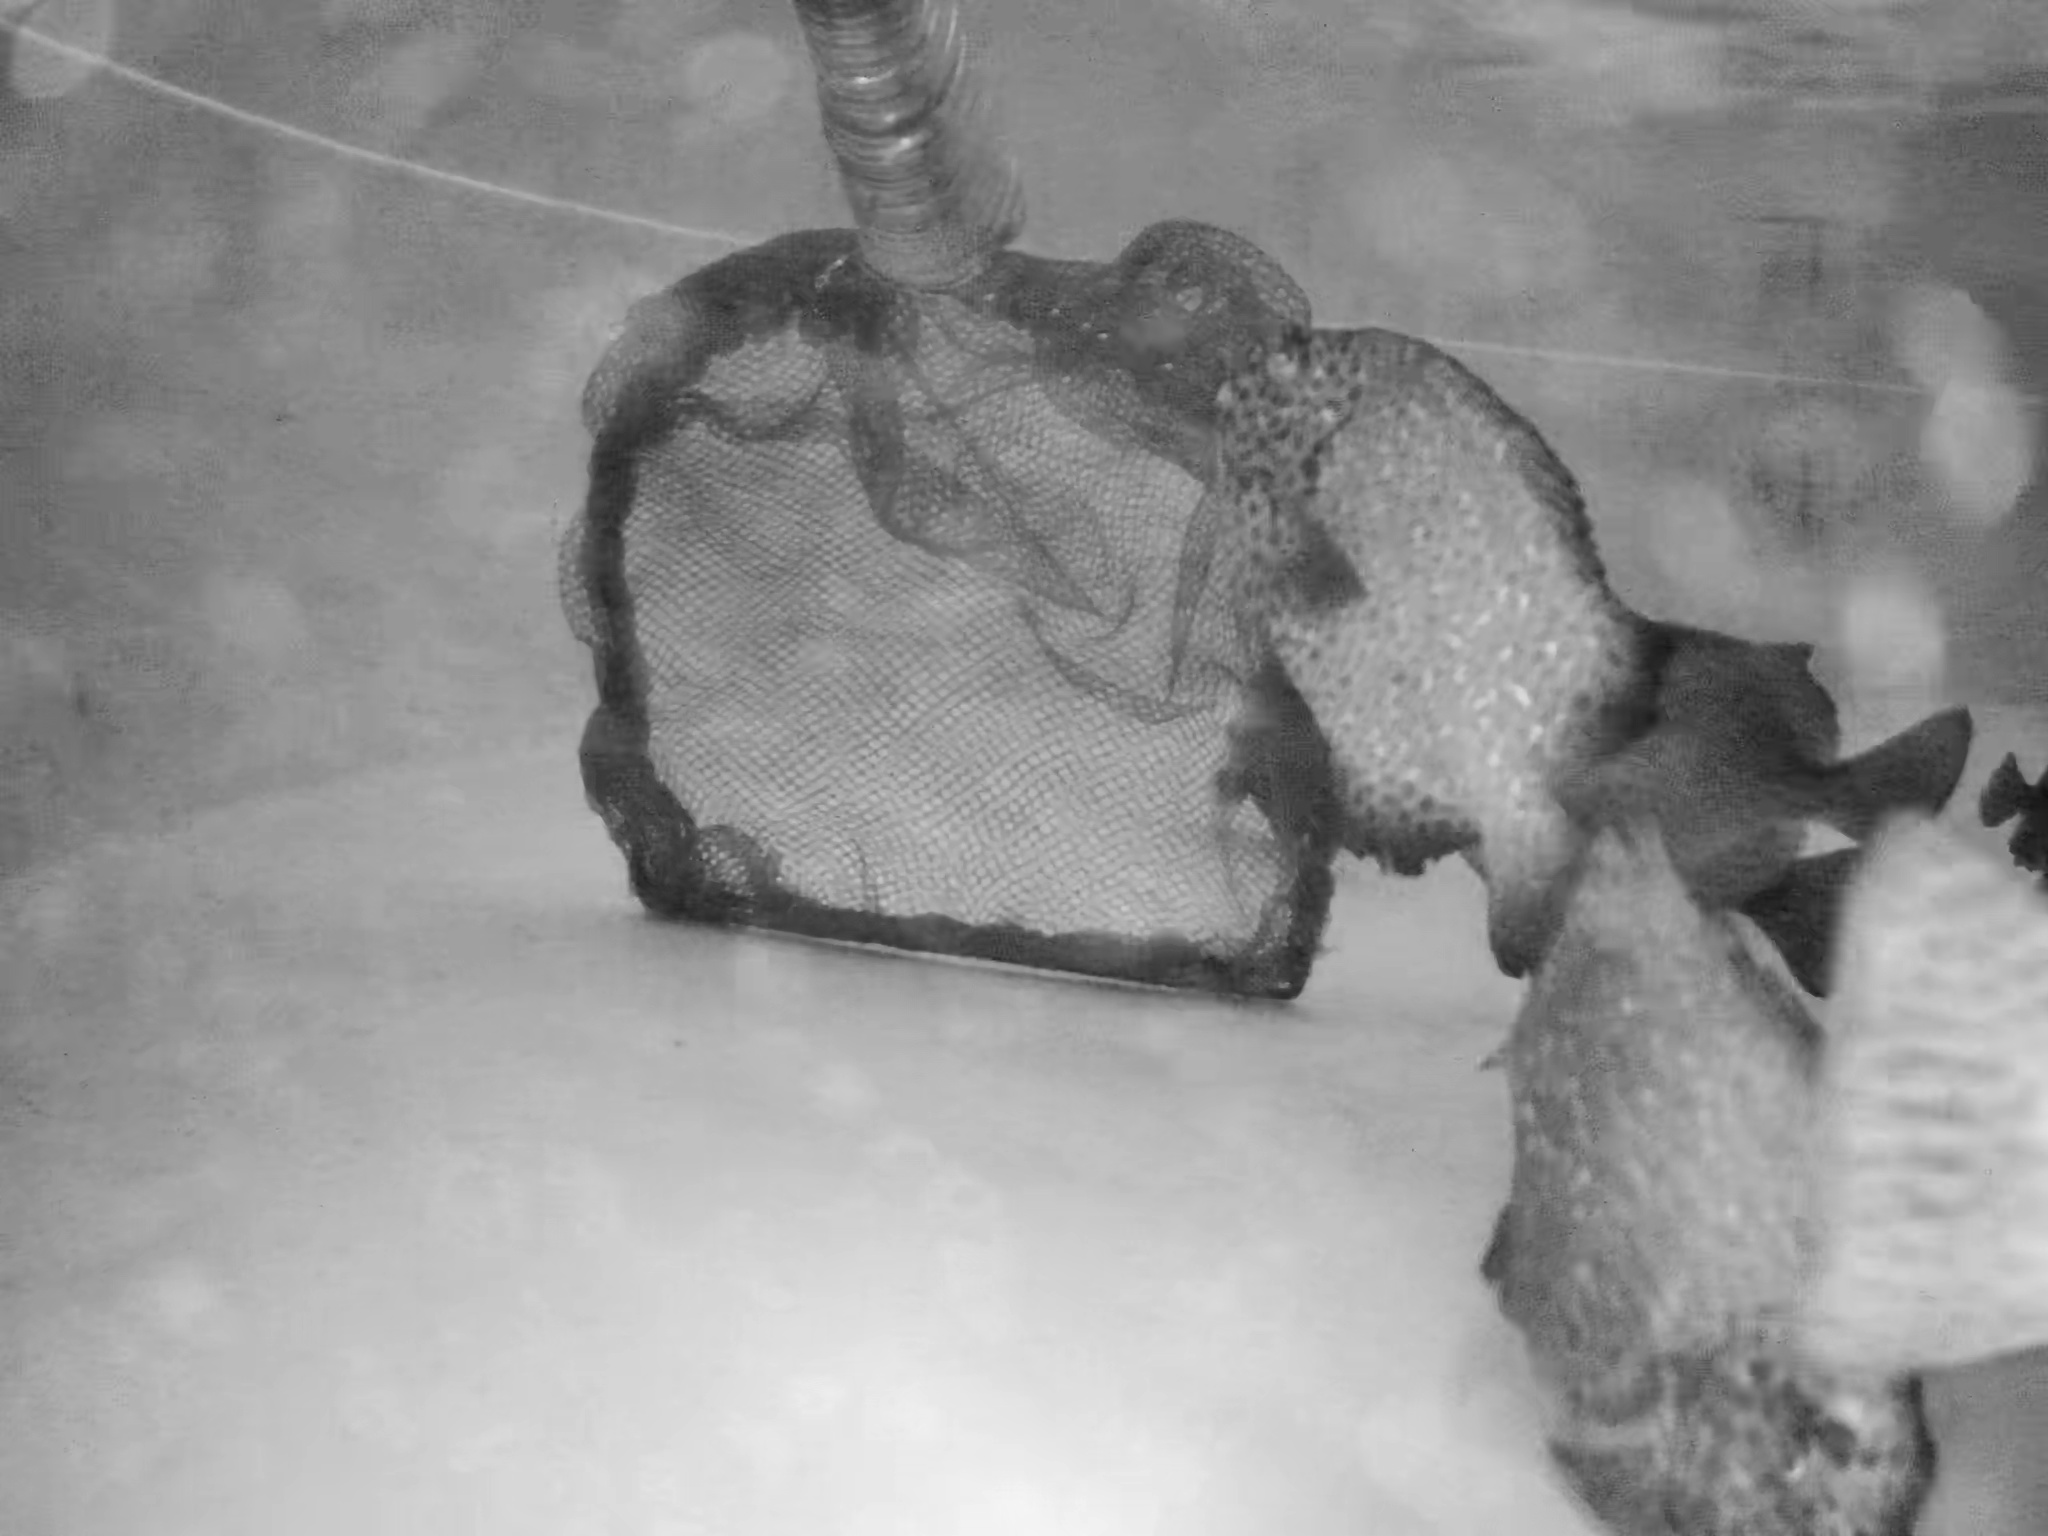fish: (1198, 315, 1738, 929), (1466, 857, 1898, 1526), (1785, 821, 2048, 1360), (1608, 628, 1958, 904)
